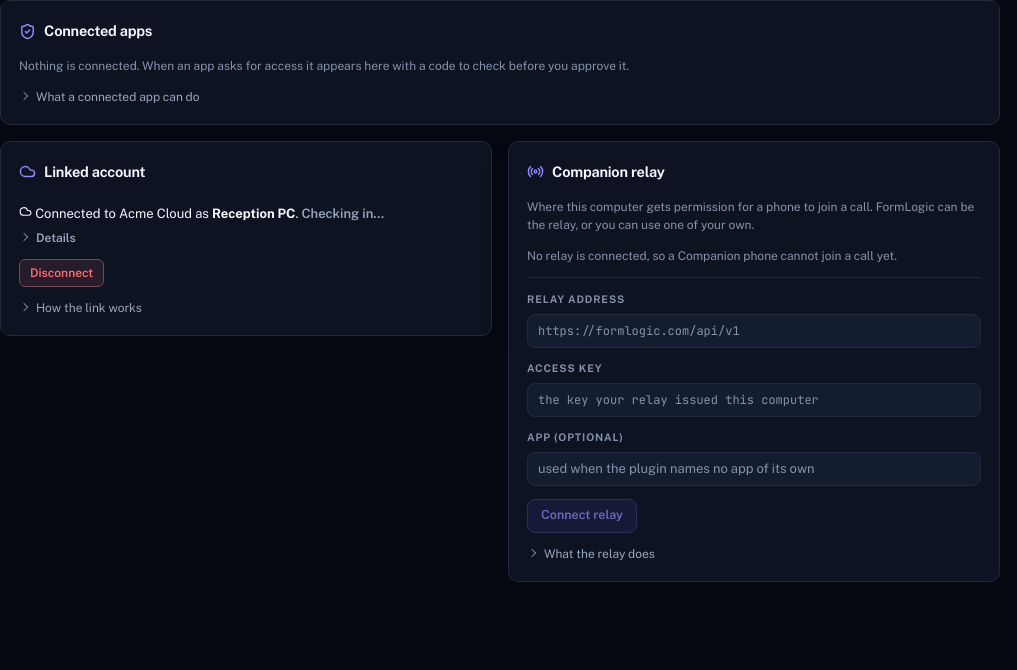
Test: ConnectionsPanel · Linked account › does not say Disconnected when the file could not be moved aside, though no account is shown for it
This screenshot has width=1017, height=670.
Click the button "Disconnect" at [62, 273], box x1=19 y1=259 x2=104 y2=287
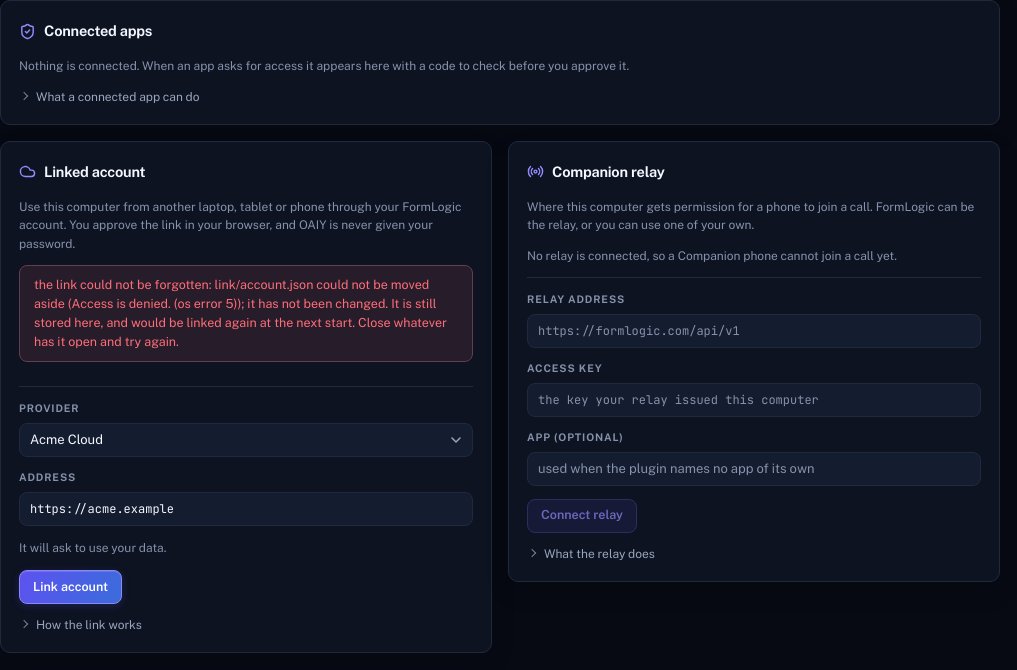
expect the number of messages is 1: met, box x1=19 y1=265 x2=473 y2=362
expect the message shows "could not be moved aside": met, box x1=34 y1=277 x2=447 y2=349
